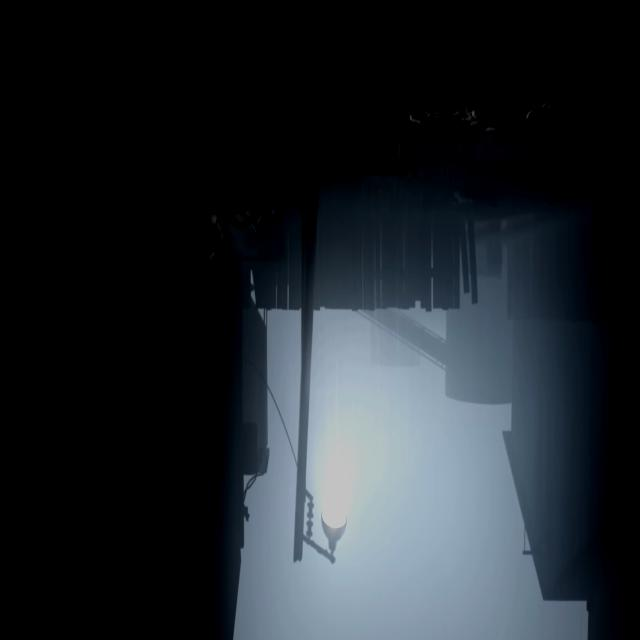boy: (208, 214, 233, 274)
